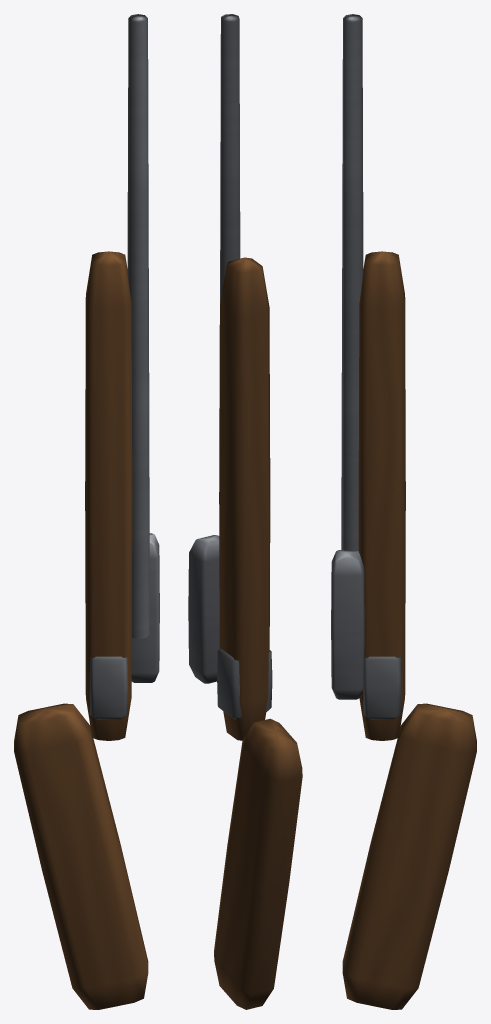
The model's file is fusil-1940.glb.
The picture shows the model from 3 angles, left to right: view 1: azimuth 90°, elevation 25°; view 2: azimuth 210°, elevation 25°; view 3: azimuth 270°, elevation 25°; orthographic projection.
Visible parts, largest first — view 1: fusil-1940; view 2: fusil-1940; view 3: fusil-1940.
Boxes of the visible parts, box(x1,y1,x2,y2) form: fusil-1940: box(14, 14, 159, 1009); fusil-1940: box(188, 14, 302, 1009); fusil-1940: box(331, 14, 476, 1009).
Size of the model in its own units: 0.0639 by 1.11 by 0.1484.
Materials: 1 (1 with a texture image).
